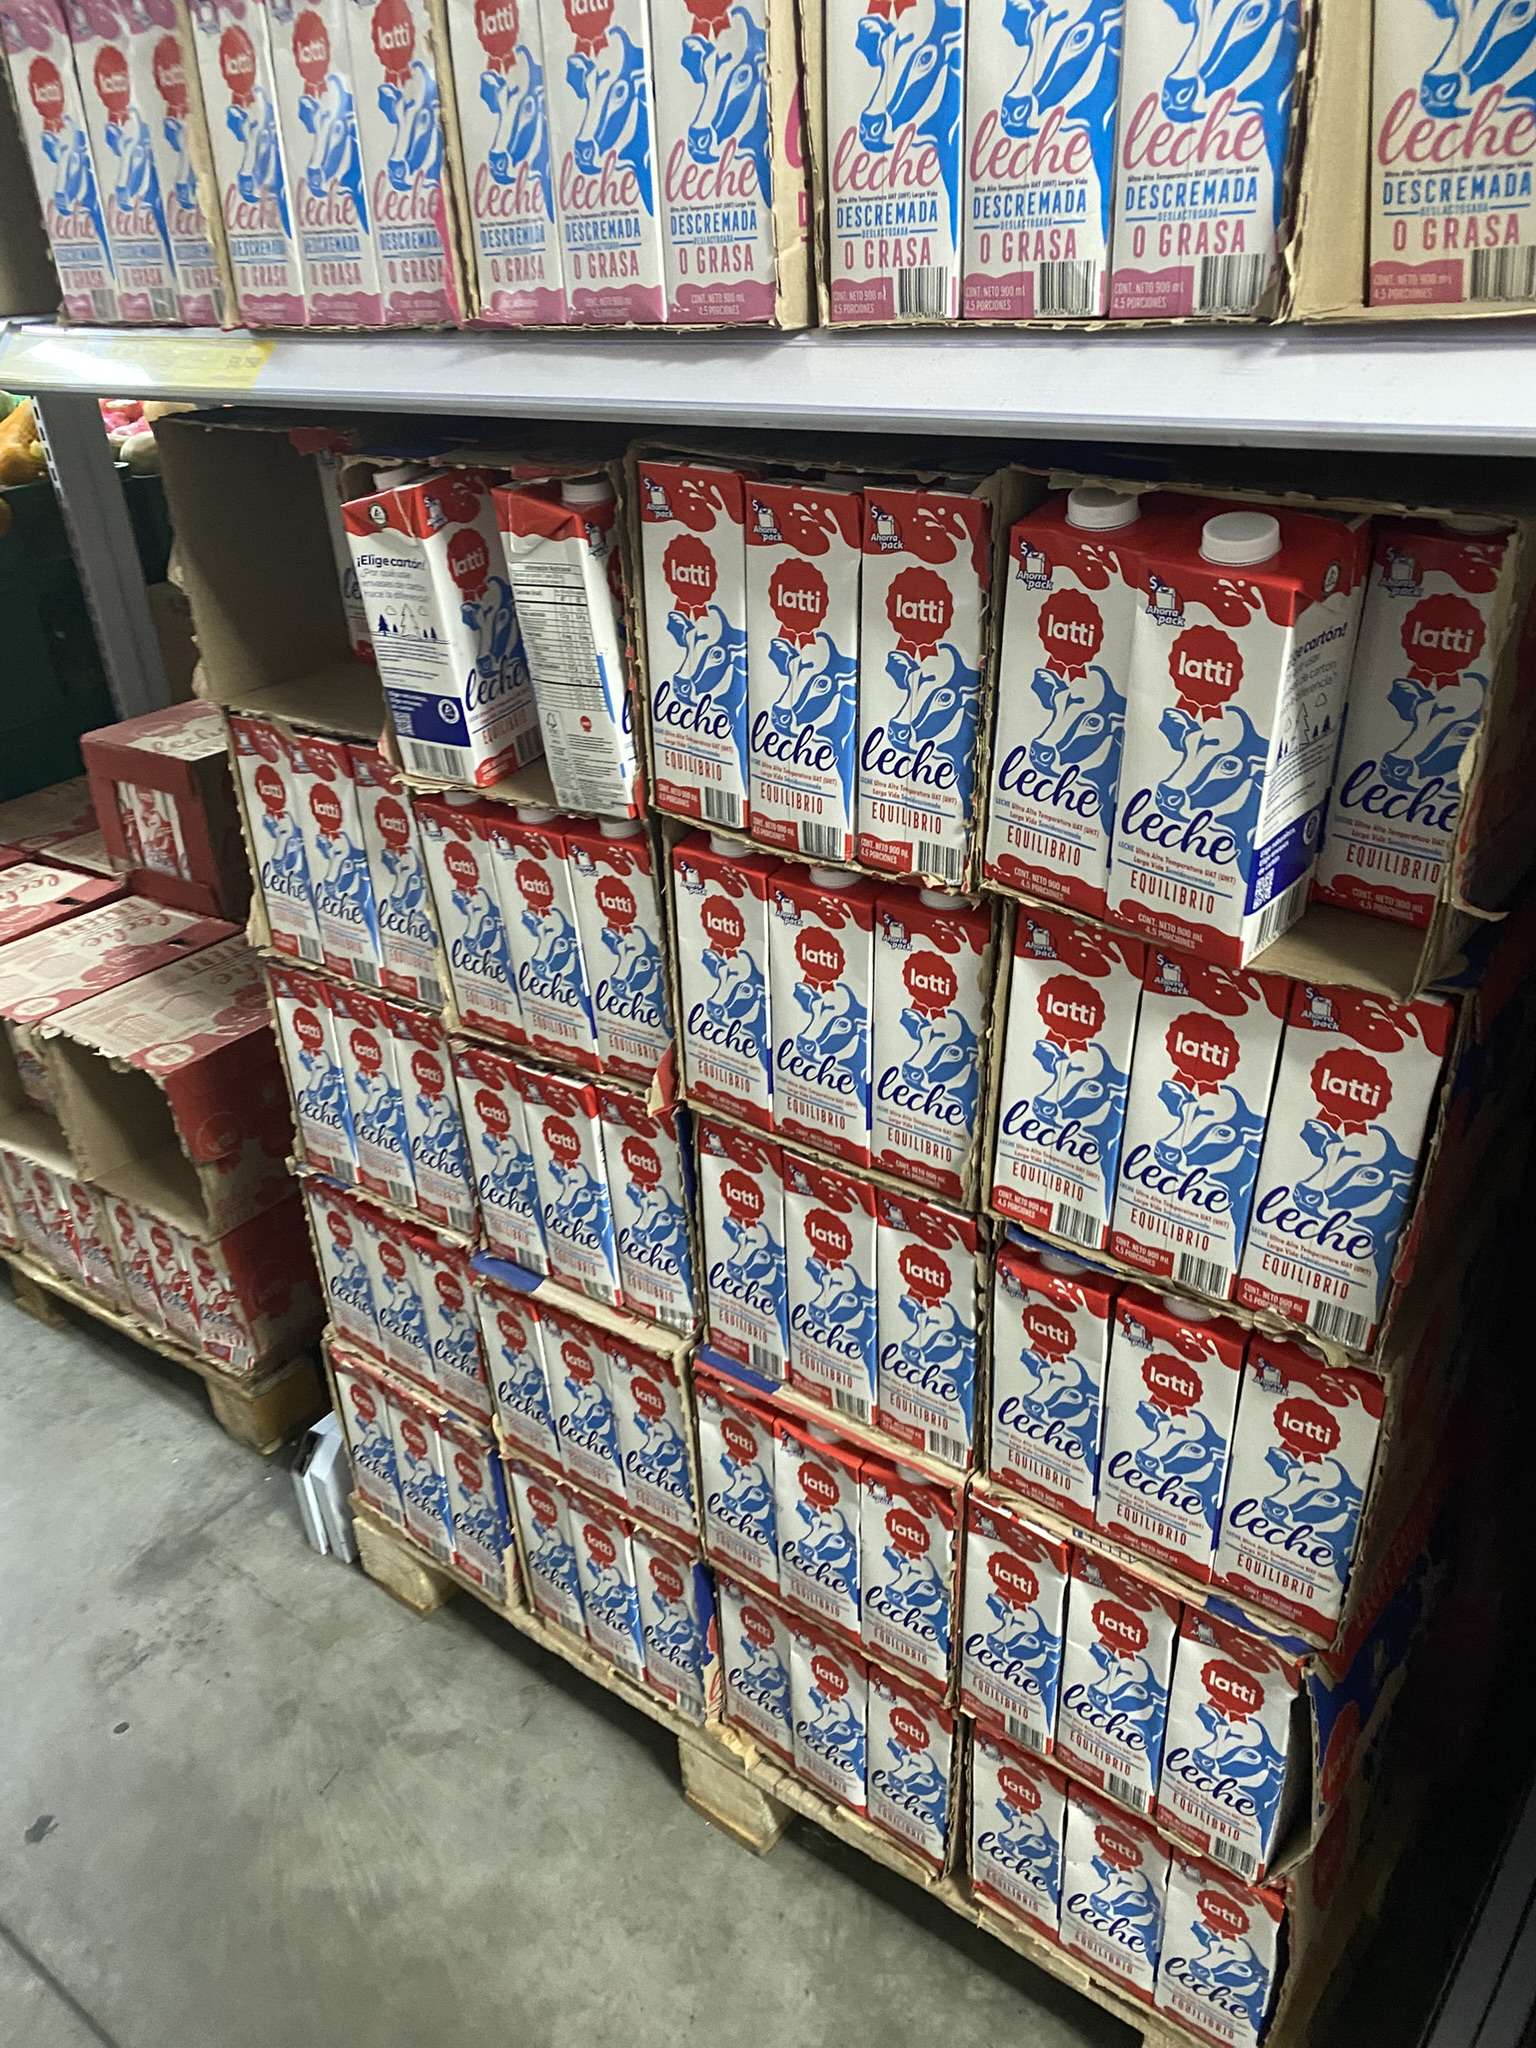Leche: (1105, 511, 1365, 932), (986, 469, 1187, 903), (1233, 990, 1470, 1301), (1338, 519, 1523, 903), (326, 450, 529, 790), (1107, 964, 1292, 1277), (747, 471, 878, 861), (854, 474, 978, 882), (1208, 1347, 1404, 1598), (871, 872, 986, 1206), (1004, 887, 1105, 1248), (1092, 1314, 1239, 1558), (649, 464, 747, 824), (1176, 1621, 1309, 1874), (532, 458, 615, 821), (565, 832, 681, 1087), (763, 885, 871, 1150), (987, 1280, 1115, 1505), (670, 842, 773, 1116), (878, 1190, 981, 1455), (589, 1092, 700, 1327), (281, 724, 379, 985), (697, 1113, 789, 1392), (352, 747, 449, 1009), (449, 1047, 549, 1293), (416, 811, 524, 1039), (495, 819, 595, 1058), (781, 1153, 866, 1430), (529, 1063, 623, 1309), (1068, 1555, 1158, 1809), (389, 1014, 487, 1237), (1055, 1793, 1163, 1992), (962, 1727, 1060, 1945), (323, 990, 418, 1206), (268, 964, 360, 1187), (958, 1513, 1049, 1738), (226, 710, 305, 956), (536, 1295, 628, 1503), (779, 1430, 870, 1637), (858, 1479, 954, 1672), (607, 1335, 697, 1524), (866, 1674, 965, 1846), (1163, 1892, 1283, 2032), (795, 1635, 874, 1822), (710, 1380, 784, 1579), (507, 1463, 582, 1640), (707, 1587, 784, 1759), (487, 1277, 557, 1467), (632, 1550, 700, 1740), (578, 1509, 647, 1688), (434, 1434, 500, 1616), (334, 1359, 405, 1529), (297, 1195, 371, 1340), (376, 1221, 429, 1392), (424, 1243, 478, 1409), (397, 1409, 450, 1563)
